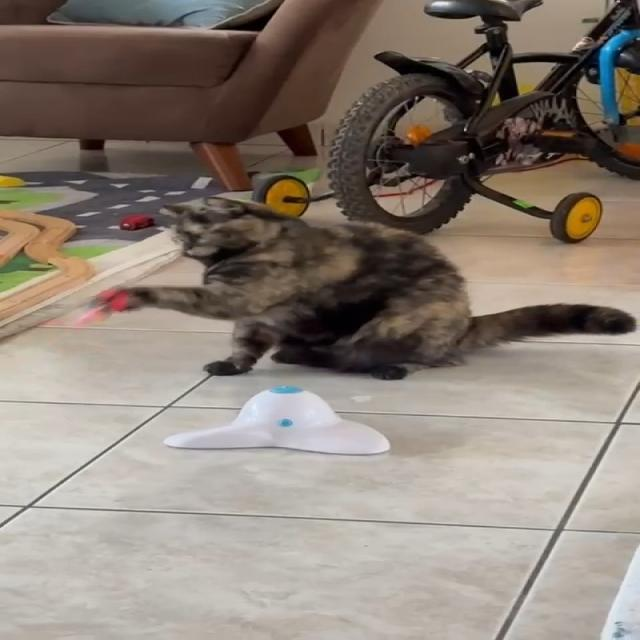authorized: (93, 195, 636, 380)
